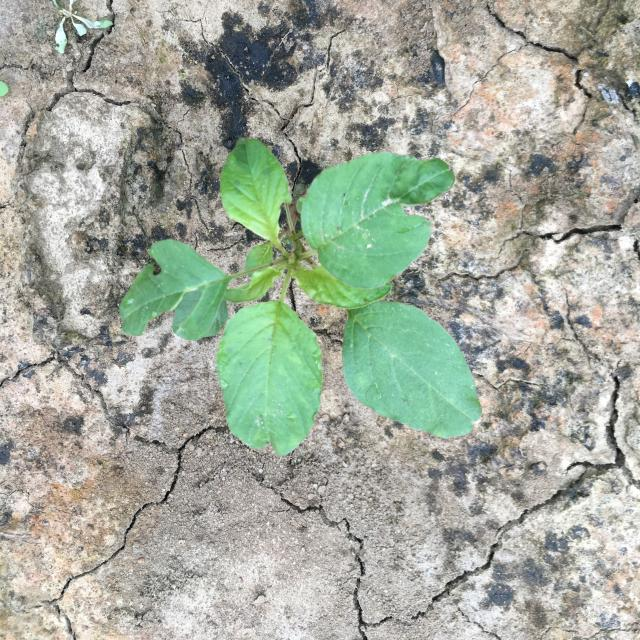PalmerAmaranth: (119, 136, 483, 457)
